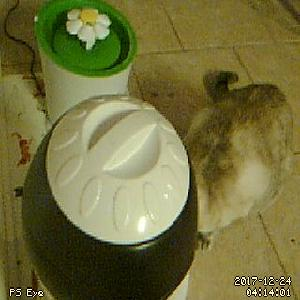cat: (180, 70, 296, 254)
fountain: (32, 1, 138, 78)
